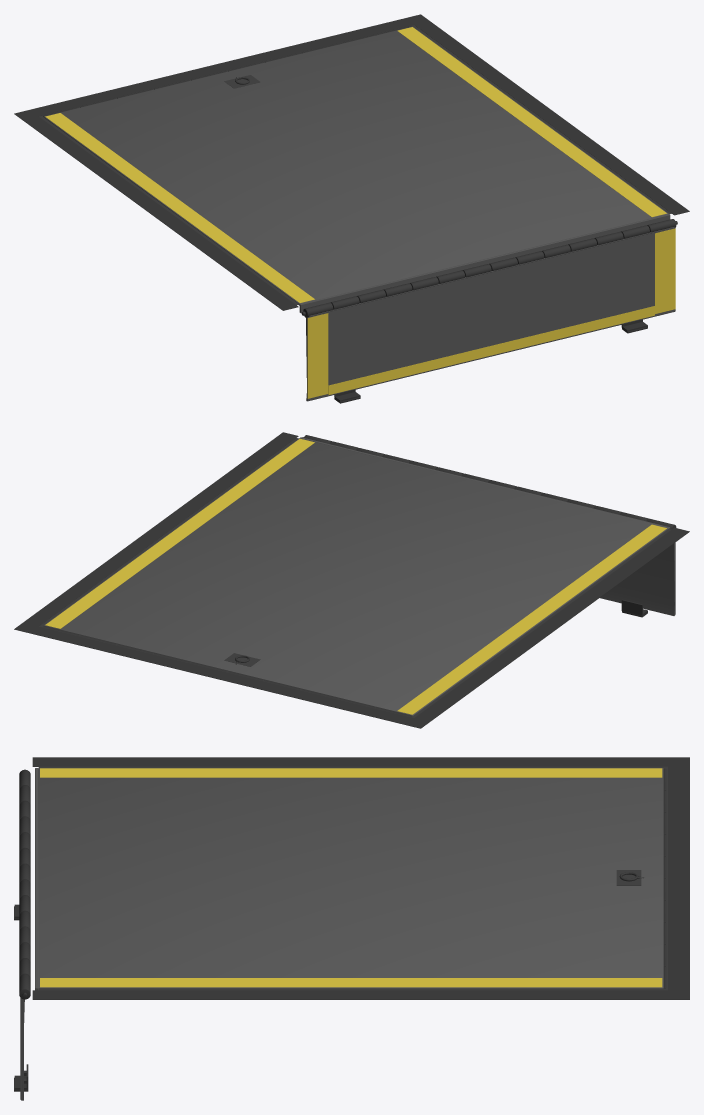
File: Kit_DockLeveler.fbx
The picture shows the model from 3 angles, top to bottom: view 1: azimuth 30°, elevation 25°; view 2: azimuth 150°, elevation 25°; view 3: azimuth 270°, elevation 25°; orthographic projection. The views are drawn at different scales.
Visible parts, largest first — view 1: Kit_DockLeveler_LOD0; view 2: Kit_DockLeveler_LOD0; view 3: Kit_DockLeveler_LOD0.
Part boxes in pixels (box(x1,y1,x2,y2)): Kit_DockLeveler_LOD0: box(14, 14, 689, 403); Kit_DockLeveler_LOD0: box(14, 432, 689, 728); Kit_DockLeveler_LOD0: box(14, 757, 689, 1100).
Size of what is drawn, in the model's own units: 1.98 by 0.4742 by 2.34.
